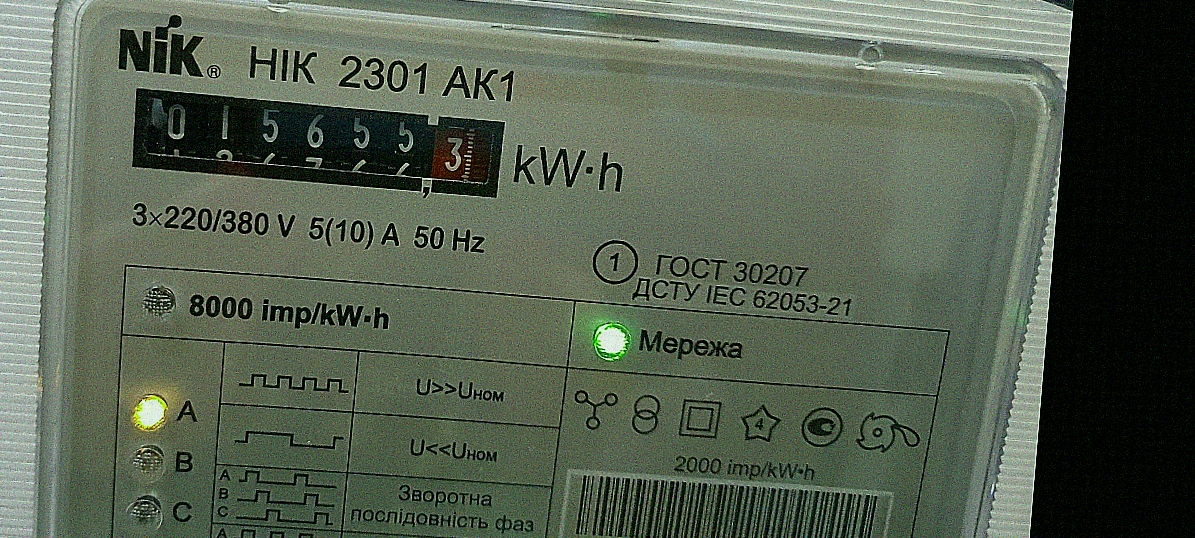0: (161, 99, 190, 142)
1: (214, 103, 235, 143)
3: (441, 135, 464, 172)
5: (255, 107, 282, 144), (348, 117, 374, 150), (395, 120, 416, 154)
6: (302, 112, 328, 150)
screen: (114, 71, 520, 214)
